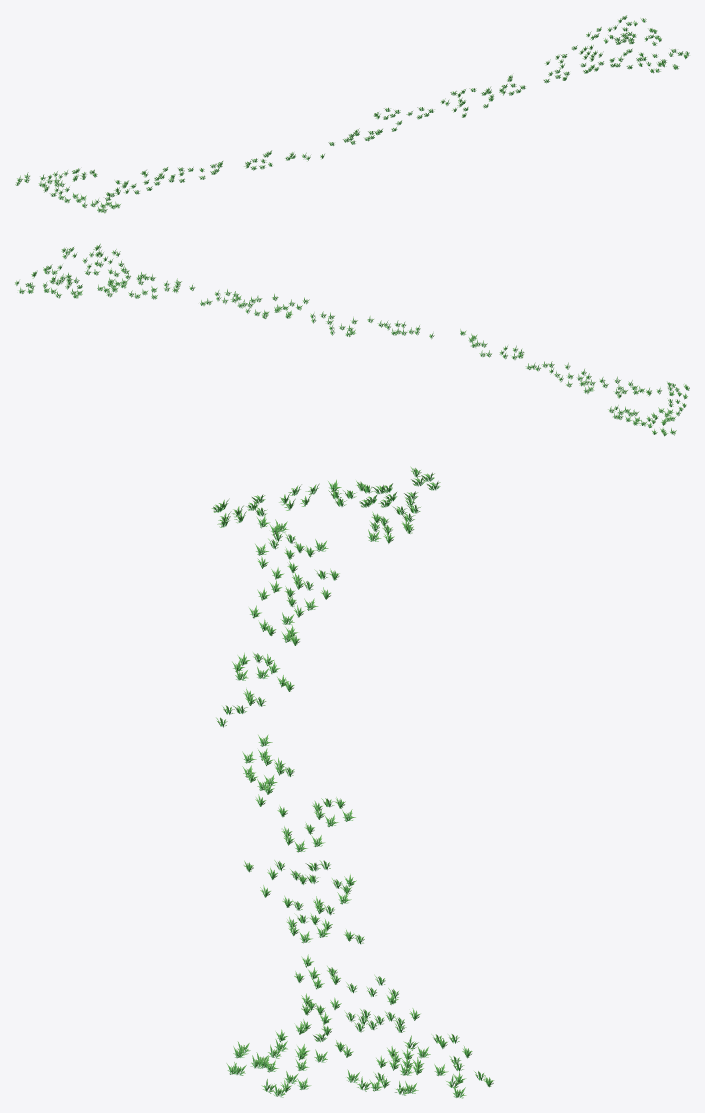
File: Area_07_8.fbx
3 renders of one model, top to bottom at view 1: azimuth 30°, elevation 25°; view 2: azimuth 150°, elevation 25°; view 3: azimuth 270°, elevation 25°, orthographic. The views are drawn at different scales.
Parts seen in each view (by area): view 1: Area_07_8; view 2: Area_07_8; view 3: Area_07_8.
Boxes of the visible parts, x1=… form: Area_07_8: x1=15, y1=15, x2=689, y2=213; Area_07_8: x1=15, y1=243, x2=689, y2=436; Area_07_8: x1=211, y1=466, x2=494, y2=1098.
Bounding box in the file's own units: 10458 × 102 × 2008.
Materials: 1 (1 with a texture image).
